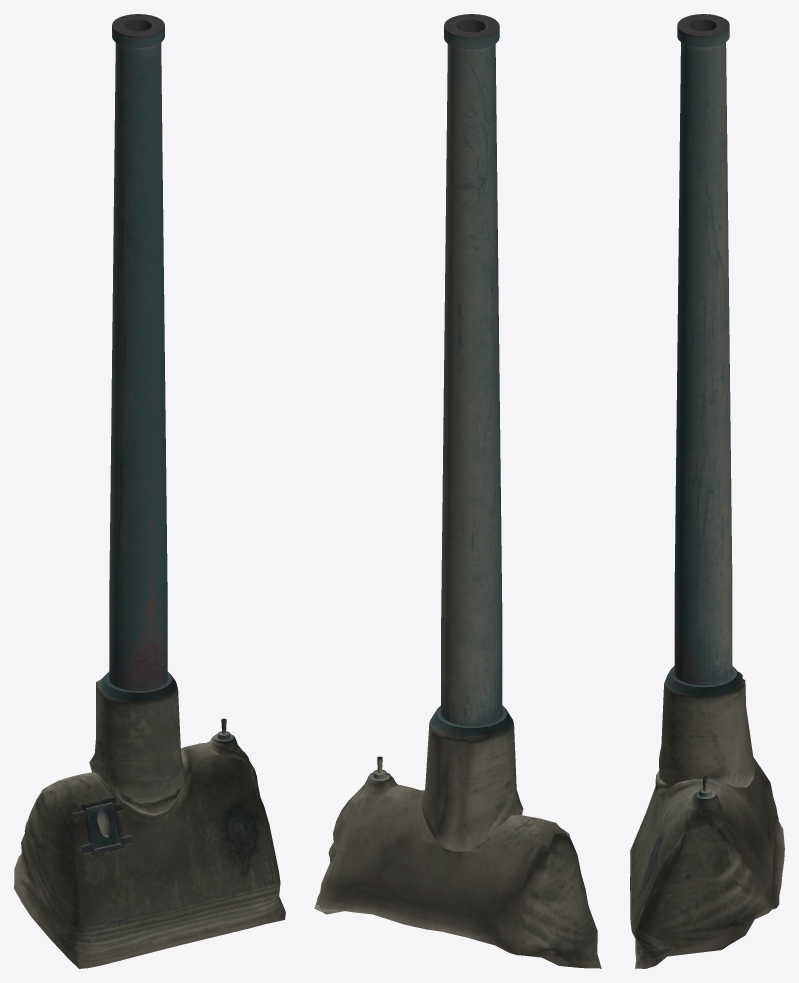
Rendered from Gun_02.glb.
3 views of the same model, side by side, from view 1: azimuth 30°, elevation 25°; view 2: azimuth 150°, elevation 25°; view 3: azimuth 270°, elevation 25° (orthographic). The views are drawn at different scales.
Visible parts, largest first — view 1: set_0_group_0; view 2: set_0_group_0; view 3: set_0_group_0.
Part boxes in pixels (x1,y1,x2,y2): set_0_group_0: (14, 14, 285, 968); set_0_group_0: (314, 14, 601, 968); set_0_group_0: (630, 14, 784, 968).
Bounding box in the file's own units: 1.66 × 6.08 × 0.9589.
Materials: 1 (1 with a texture image).
